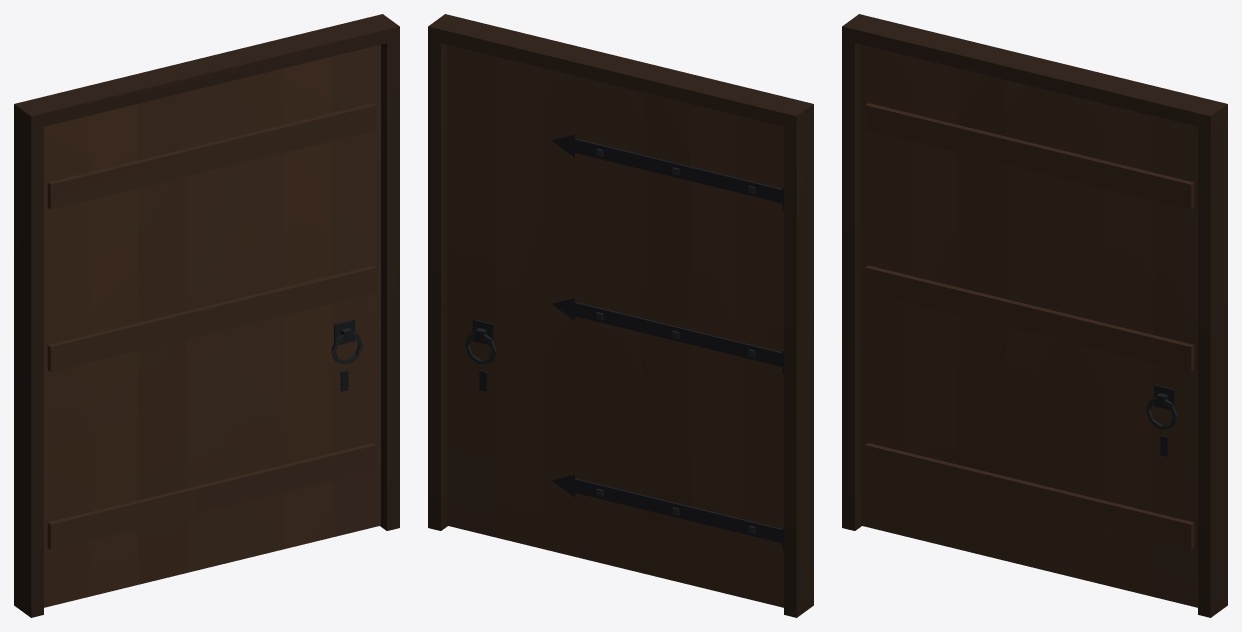
Rendered from door.oak.dark.glb.
The picture shows the model from 3 angles, left to right: view 1: azimuth 30°, elevation 25°; view 2: azimuth 150°, elevation 25°; view 3: azimuth 330°, elevation 25°; orthographic projection.
Visible parts, largest first — view 1: door_oak_dark; view 2: door_oak_dark; view 3: door_oak_dark.
Boxes of the visible parts, x1,y1,x2,y2 form: door_oak_dark: (14,14,399,617); door_oak_dark: (428,14,813,617); door_oak_dark: (842,14,1227,617).
Size of what is drawn, in the model's own units: 2 by 2.6 by 0.16.
